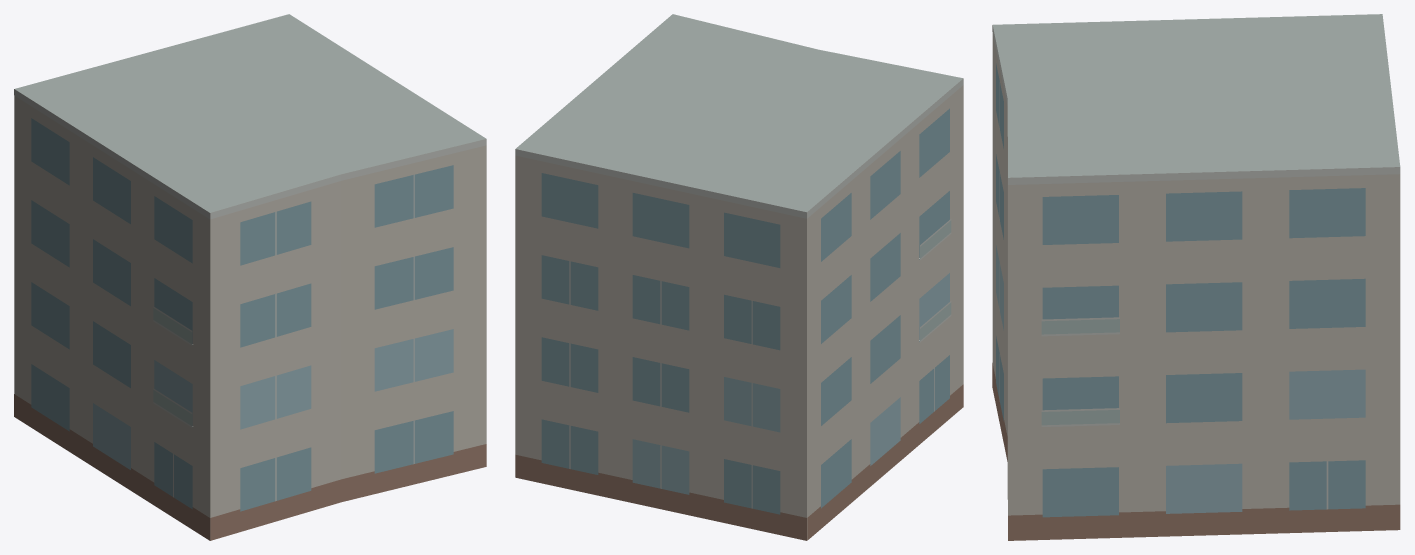
Rendered from survey-upis-33036104.glb.
The picture shows the model from 3 angles, left to right: view 1: azimuth 30°, elevation 25°; view 2: azimuth 150°, elevation 25°; view 3: azimuth 270°, elevation 25°; orthographic projection. The views are drawn at different scales.
Parts seen in each view (by area): view 1: survey-upis-33036104.tmp; view 2: survey-upis-33036104.tmp; view 3: survey-upis-33036104.tmp.
Part boxes in pixels (x1=…): survey-upis-33036104.tmp: x1=14, y1=14, x2=486, y2=540; survey-upis-33036104.tmp: x1=515, y1=14, x2=963, y2=540; survey-upis-33036104.tmp: x1=992, y1=14, x2=1400, y2=540.
Size of the model in its own units: 11.96 by 12.35 by 12.58.
